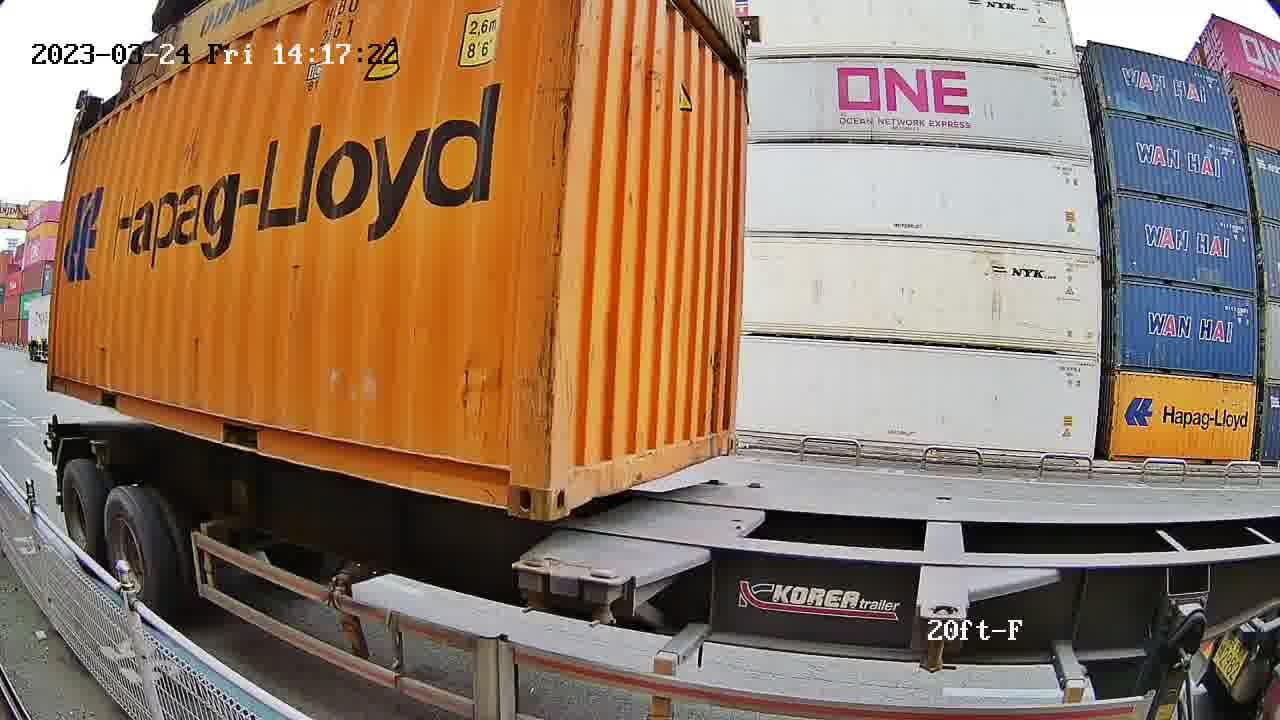Chassis: (518, 481, 724, 571), (583, 484, 763, 583)
Cone: (585, 567, 627, 629), (516, 556, 551, 613)
Hole_L: (547, 437, 597, 521)
Hole_R: (474, 439, 549, 520), (713, 414, 737, 458)
Tire: (105, 488, 157, 616), (62, 463, 100, 571)
